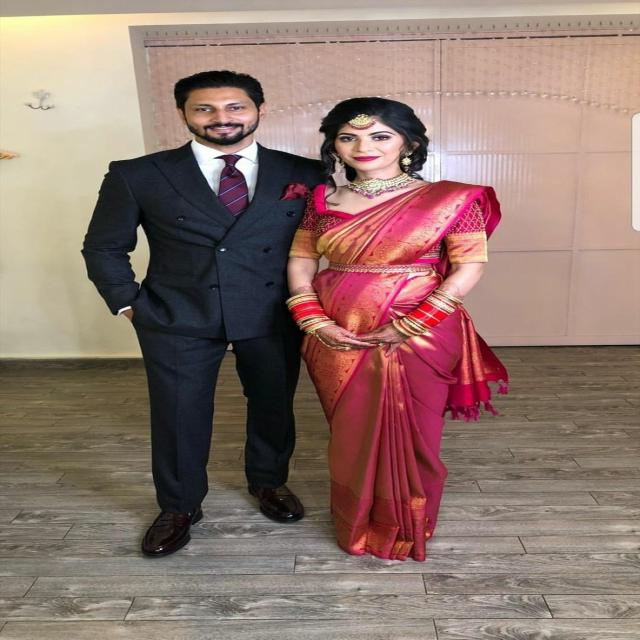female-dress: (292, 179, 500, 548)
male-dress: (107, 138, 302, 516)
